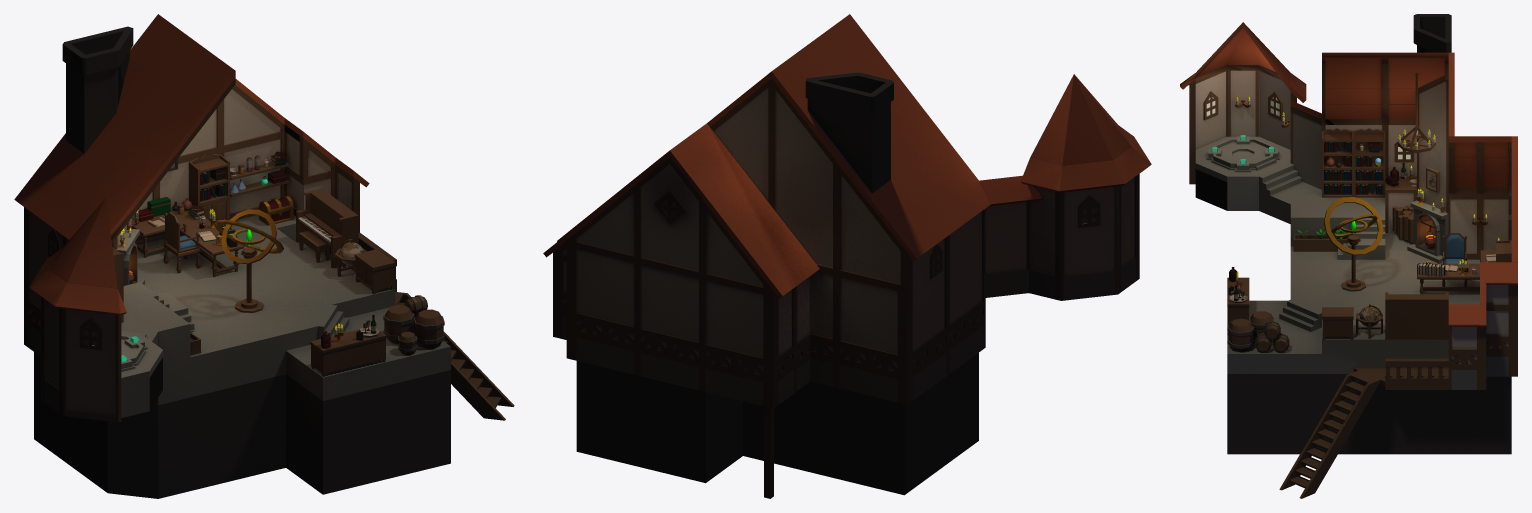
3 renders of one model, left to right at view 1: azimuth 30°, elevation 25°; view 2: azimuth 150°, elevation 25°; view 3: azimuth 270°, elevation 25°, orthographic. The views are drawn at different scales.
Visible parts, largest first — view 1: __JoinWall01.003_0, __JoinBase.003_0, __JoinFloor.003_0, __JoinWall02.003_0, __JoinStandAlone.003_0, __JoinBarrels.003_0, __JoinDesk.003_0, __JoinCabinet.003_0, __JoinFirePlace.003_0; view 2: __JoinWall02.003_0, __JoinWall01.003_0, __JoinBase.003_0; view 3: __JoinWall01.003_0, __JoinFloor.003_0, __JoinBase.003_0, __JoinWall02.003_0, __JoinStandAlone.003_0, __JoinCabinet.003_0, __JoinFirePlace.003_0, __JoinBarrels.003_0, __JoinDesk.003_0, __JoinPlants.003_0.
Boxes of the visible parts, x1,y1,x2,y2 form: __JoinWall01.003_0: [18, 17, 235, 422]; __JoinBase.003_0: [34, 232, 514, 498]; __JoinFloor.003_0: [121, 215, 450, 417]; __JoinWall02.003_0: [14, 14, 369, 346]; __JoinStandAlone.003_0: [121, 188, 395, 371]; __JoinBarrels.003_0: [230, 151, 444, 376]; __JoinDesk.003_0: [131, 197, 244, 276]; __JoinCabinet.003_0: [112, 154, 229, 322]; __JoinFirePlace.003_0: [116, 219, 144, 285]; __JoinWall02.003_0: [543, 68, 920, 408]; __JoinWall01.003_0: [775, 14, 1151, 401]; __JoinBase.003_0: [576, 353, 978, 498]; __JoinWall01.003_0: [1180, 14, 1451, 233]; __JoinFloor.003_0: [1195, 136, 1479, 373]; __JoinBase.003_0: [1227, 358, 1511, 498]; __JoinWall02.003_0: [1448, 52, 1517, 389]; __JoinStandAlone.003_0: [1207, 135, 1448, 339]; __JoinCabinet.003_0: [1322, 128, 1511, 262]; __JoinFirePlace.003_0: [1385, 162, 1448, 263]; __JoinBarrels.003_0: [1227, 267, 1289, 352]; __JoinDesk.003_0: [1417, 233, 1499, 294]; __JoinPlants.003_0: [1235, 73, 1511, 251].
Size of the model in its own units: 15.85 by 11.7 by 10.7.
Materials: 10 (10 with a texture image).
